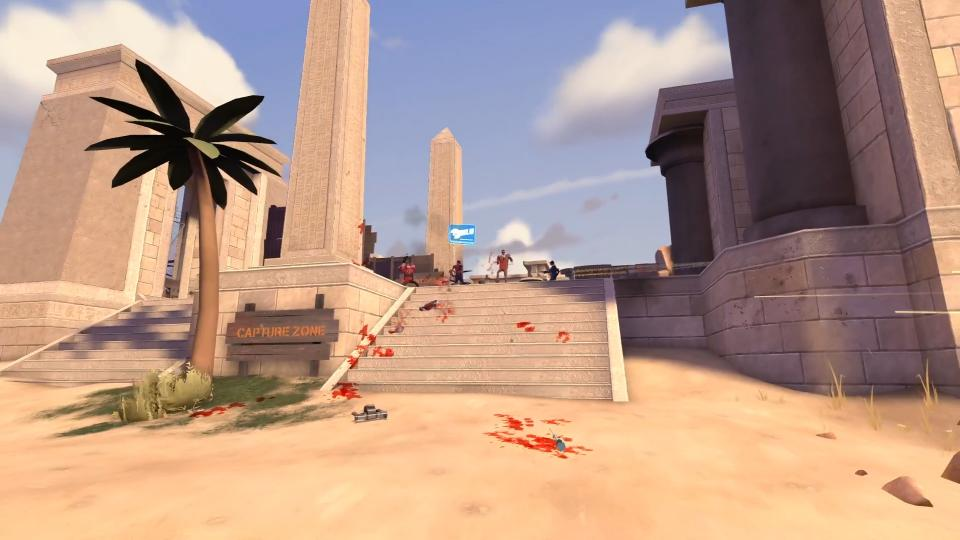Enemy: (397, 259, 419, 288), (495, 249, 513, 283), (540, 260, 561, 281), (451, 260, 465, 284)
